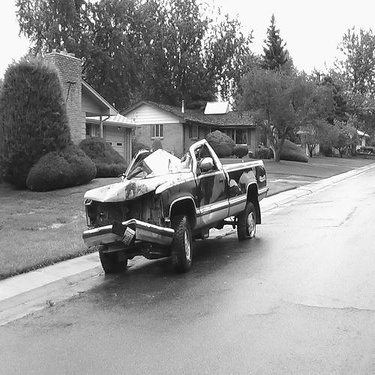car: (74, 135, 270, 277)
